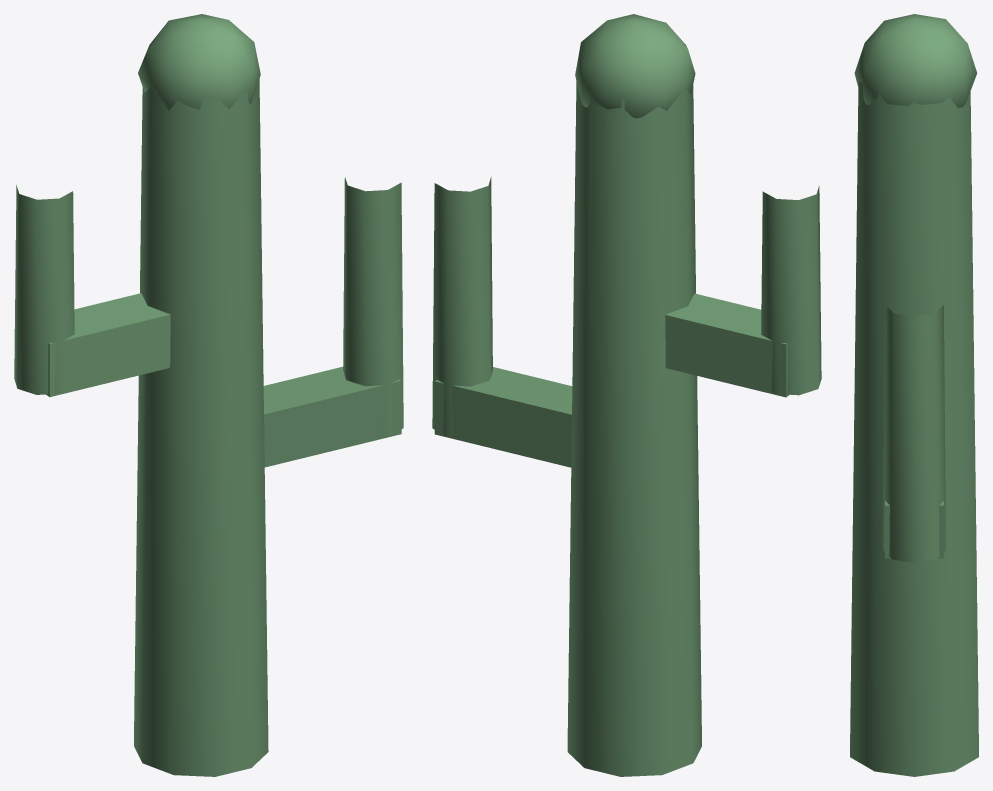
File: cactus.gltf
The picture shows the model from 3 angles, left to right: view 1: azimuth 30°, elevation 25°; view 2: azimuth 150°, elevation 25°; view 3: azimuth 270°, elevation 25°; orthographic projection.
Parts seen in each view (by area): view 1: cactus; view 2: cactus; view 3: cactus.
Boxes of the visible parts, box(x1,y1,x2,y2) form: cactus: box(14, 14, 403, 776); cactus: box(432, 14, 821, 776); cactus: box(850, 14, 978, 776).
Size of the model in its own units: 1.96 by 3.56 by 0.5706.
